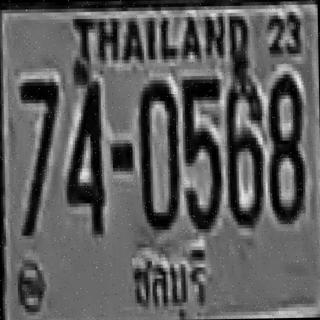N00: (138, 76, 178, 226)
N04: (62, 69, 103, 233)
N05: (180, 76, 220, 229)
N06: (224, 73, 262, 223)
N07: (18, 78, 58, 232), (18, 76, 58, 209), (18, 78, 58, 180)
N08: (266, 70, 304, 220)
P13: (126, 246, 210, 320)
